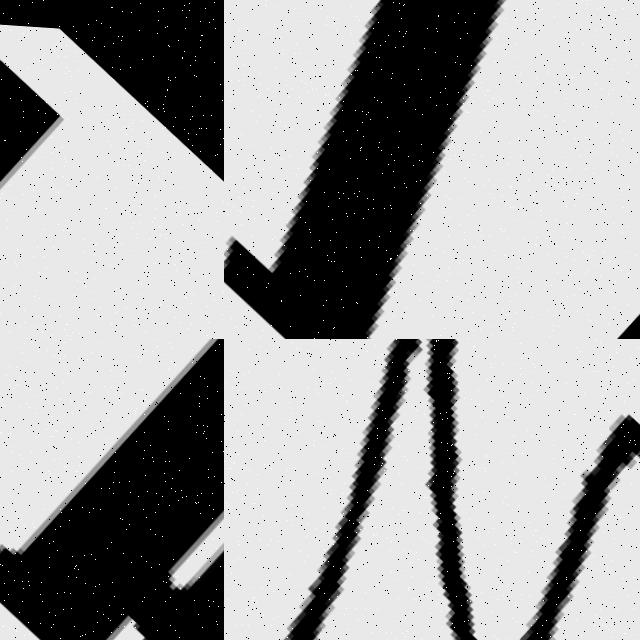B: (0, 339, 224, 640)
H: (270, 339, 483, 640), (509, 403, 640, 640)
L: (224, 0, 640, 339)
R: (0, 26, 224, 339)
